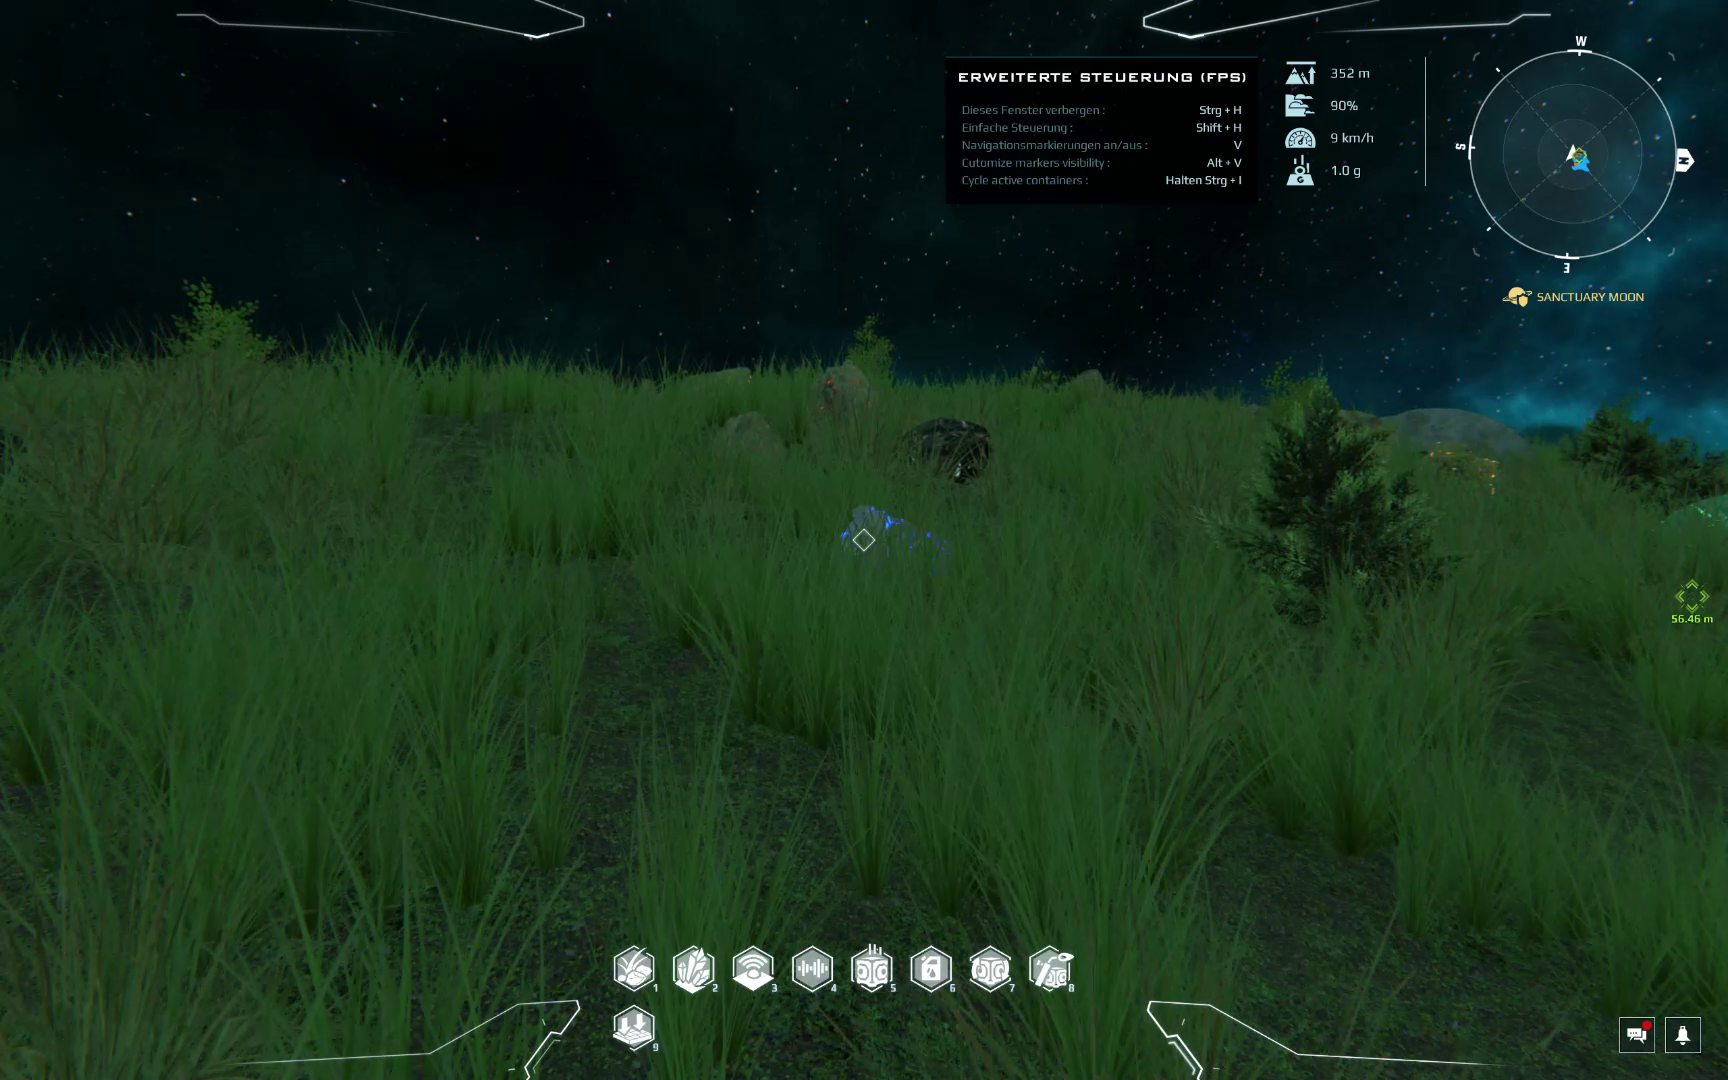Ore: (1641, 485, 1728, 638), (885, 416, 989, 499), (804, 363, 882, 474), (829, 491, 941, 566), (1419, 440, 1502, 506), (713, 409, 789, 472)
